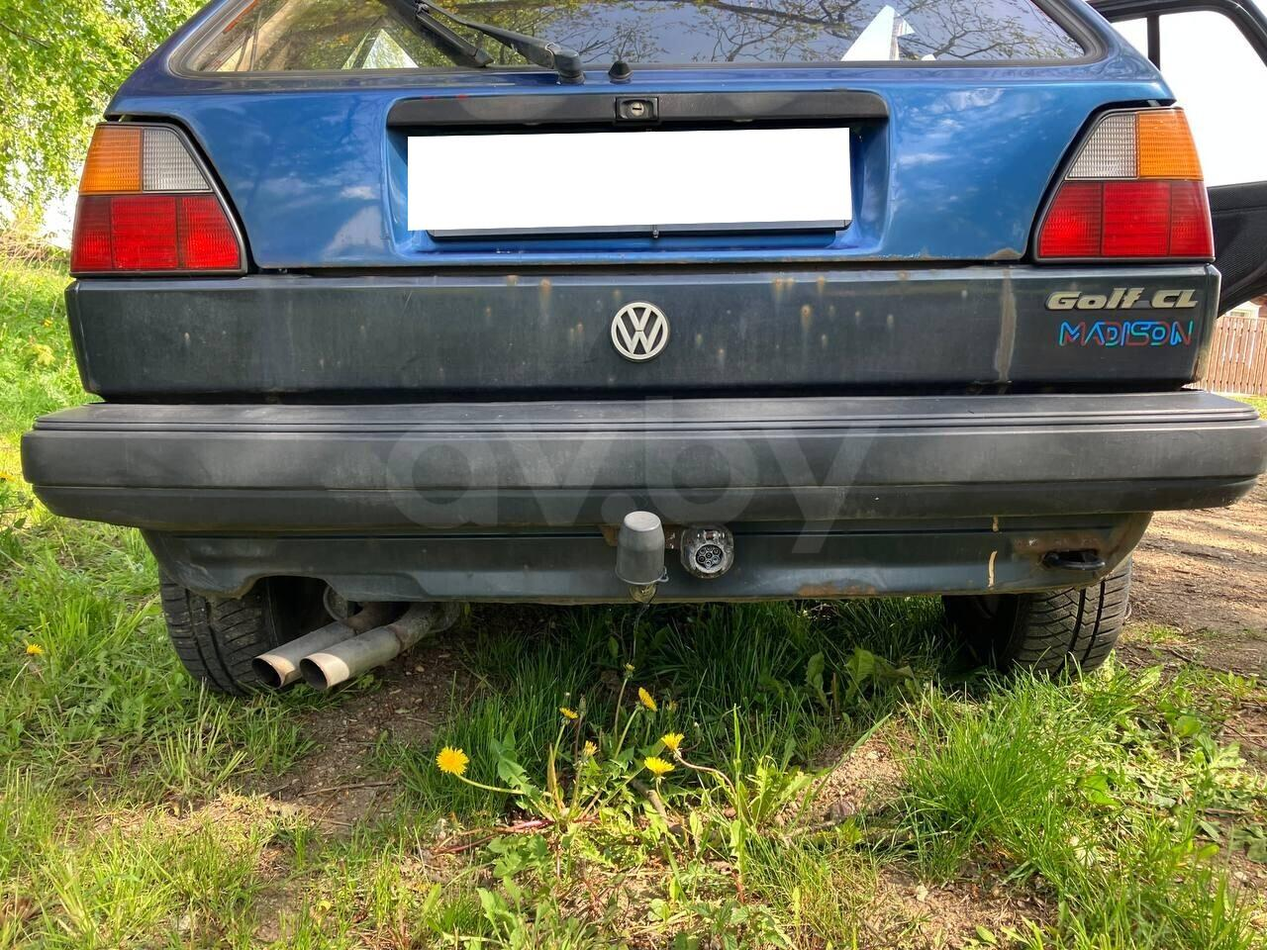Golf_1983-1992: (23, 0, 1267, 679)
